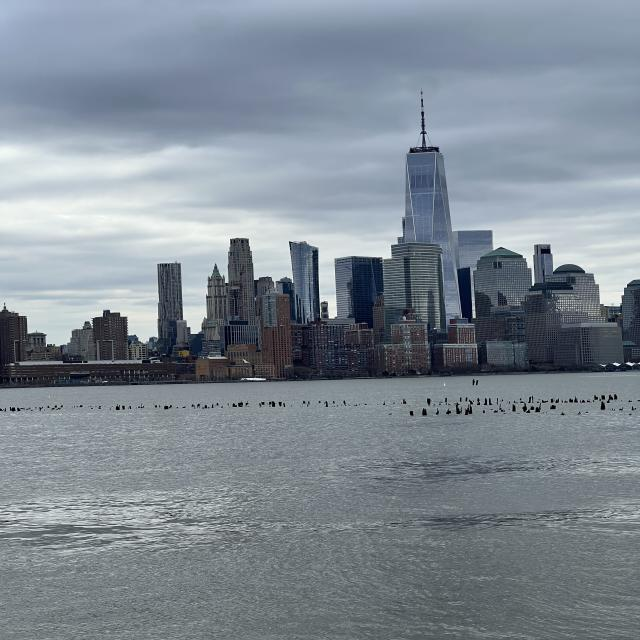WTC: (398, 88, 451, 238)
